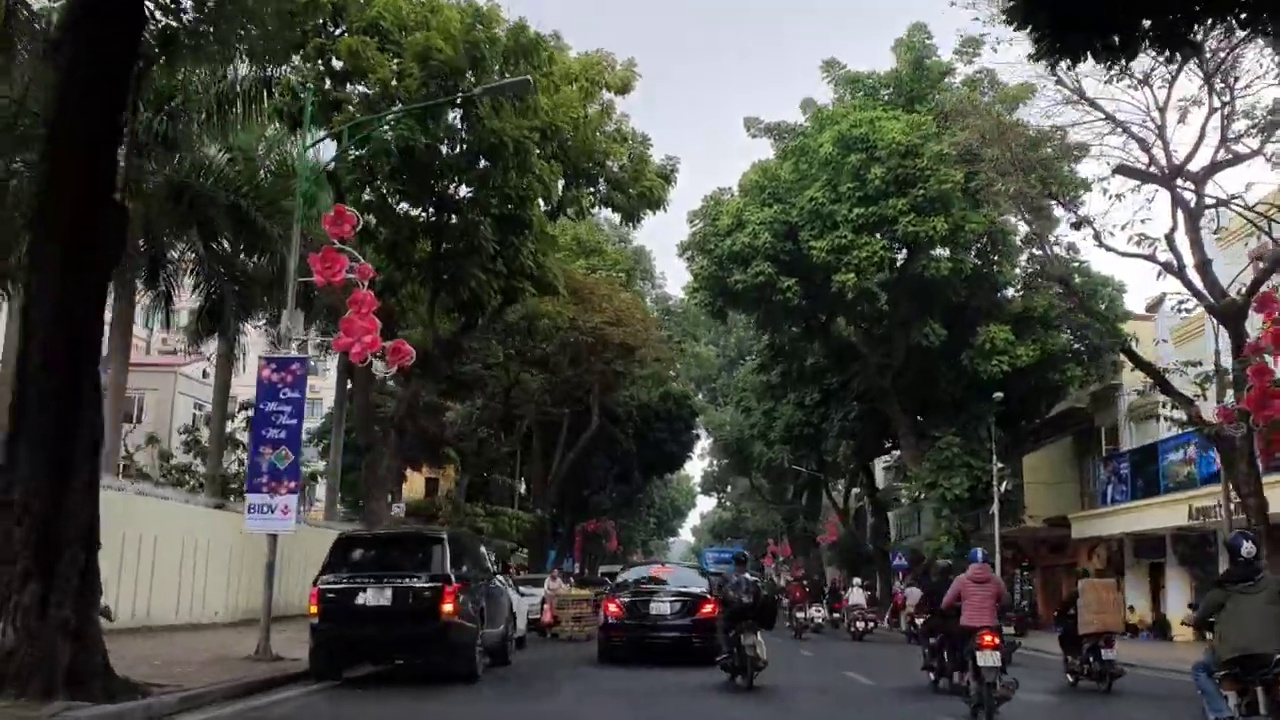person: (364, 584, 391, 608)
